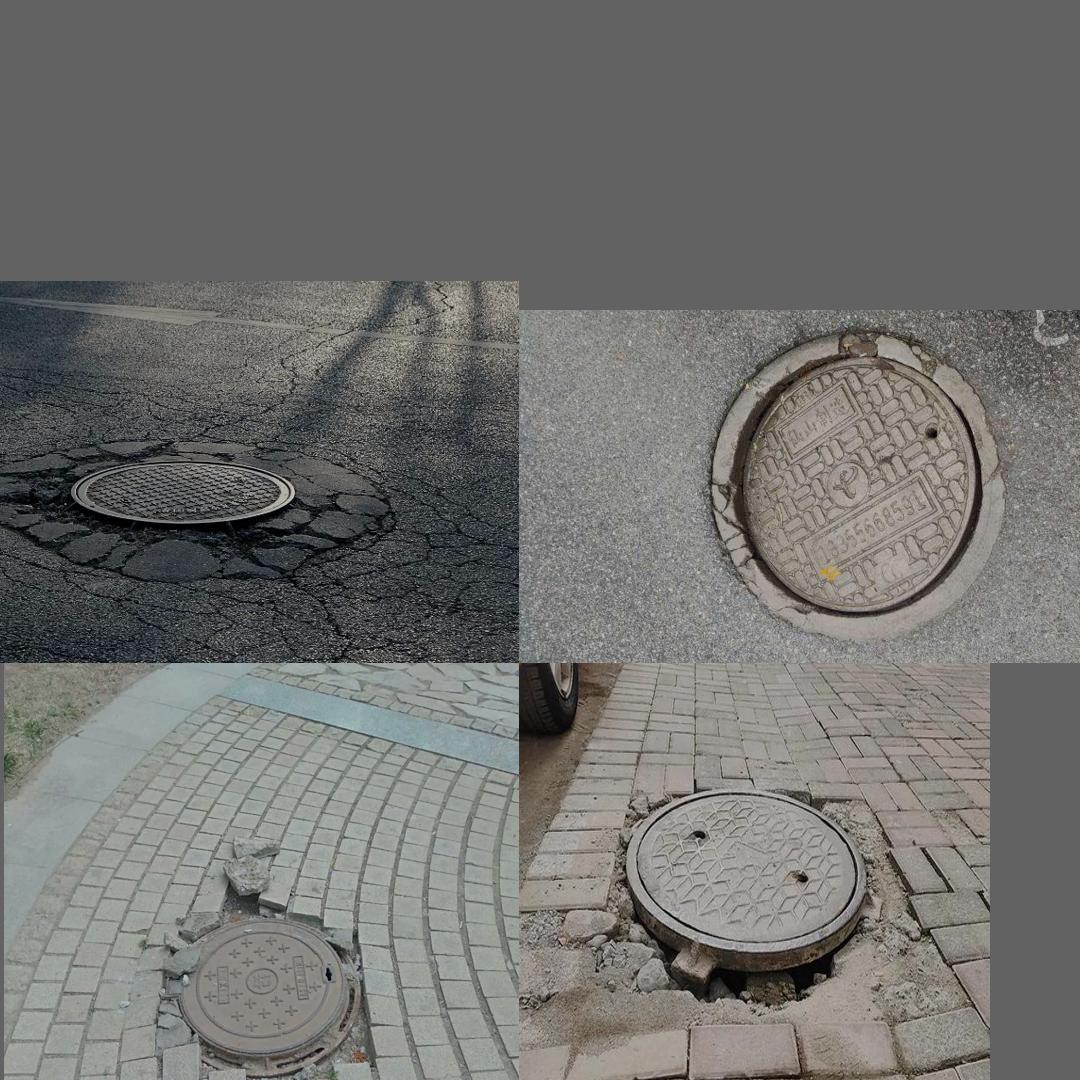circle: (669, 329, 1023, 637), (581, 774, 956, 1055), (8, 434, 407, 600), (128, 871, 395, 1080)
